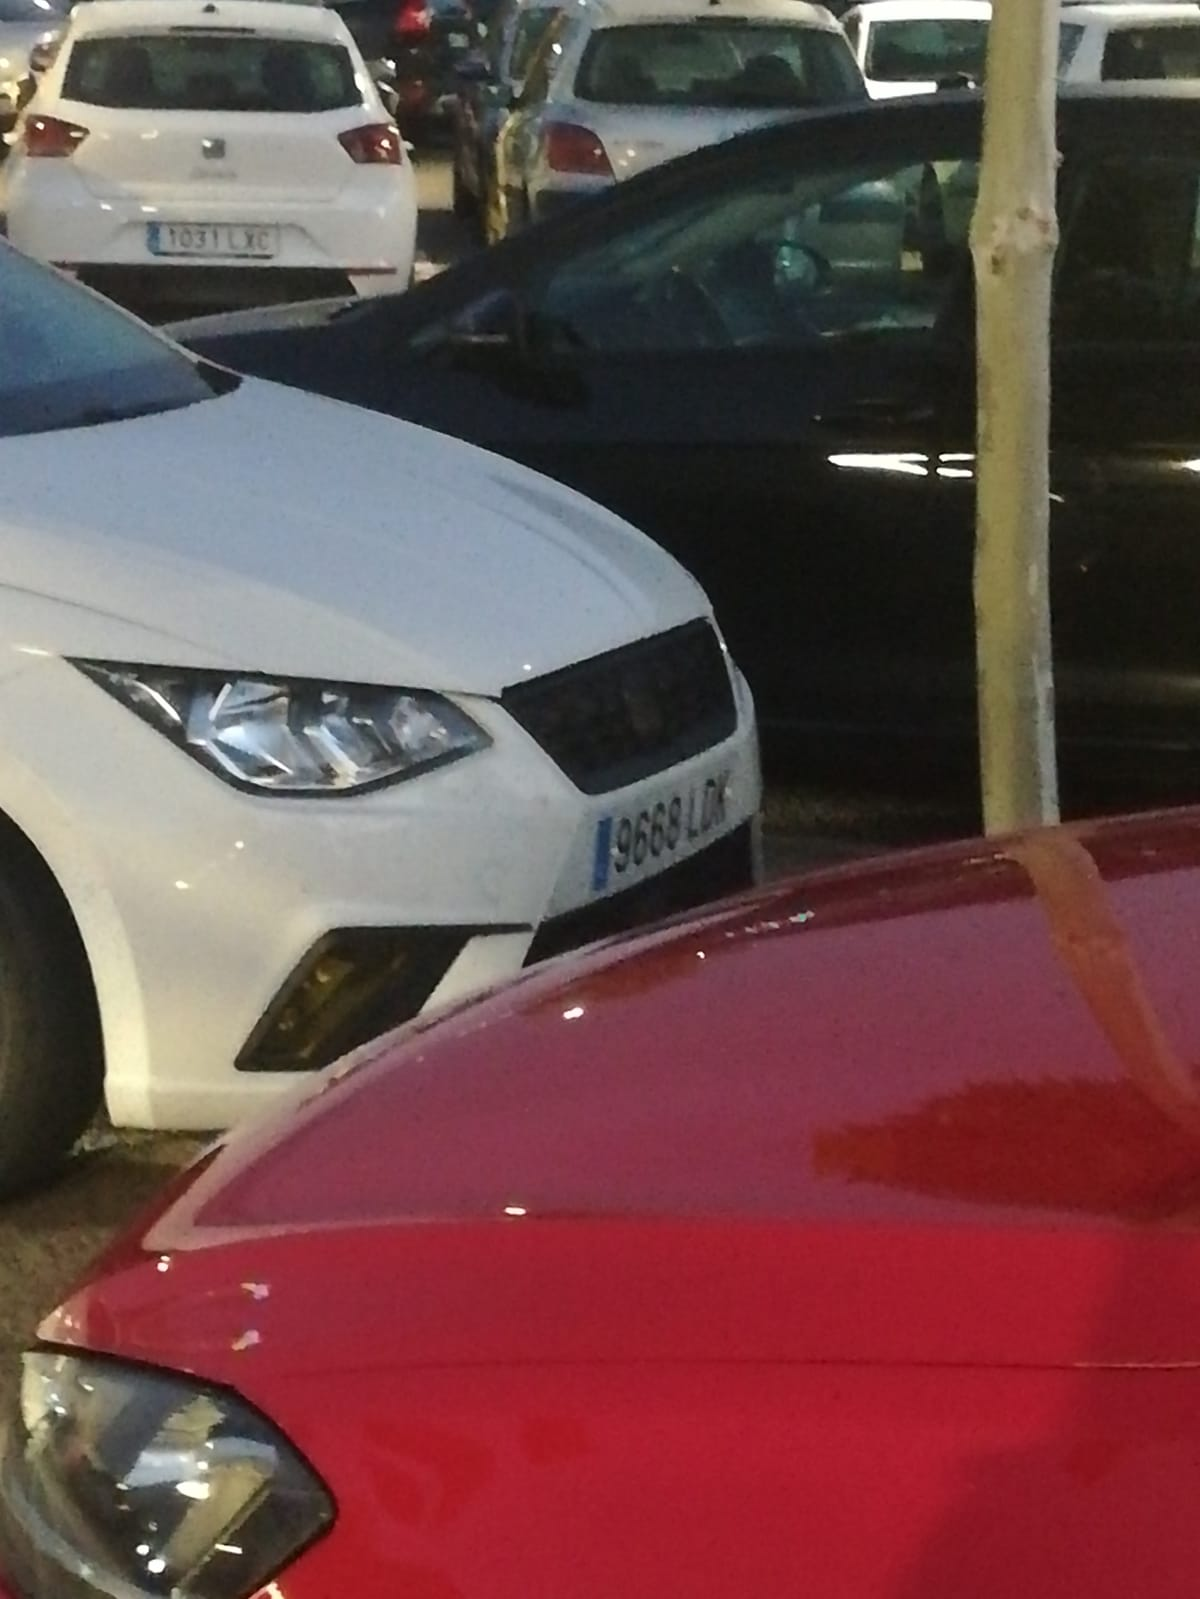Plate: (575, 827, 755, 885)
